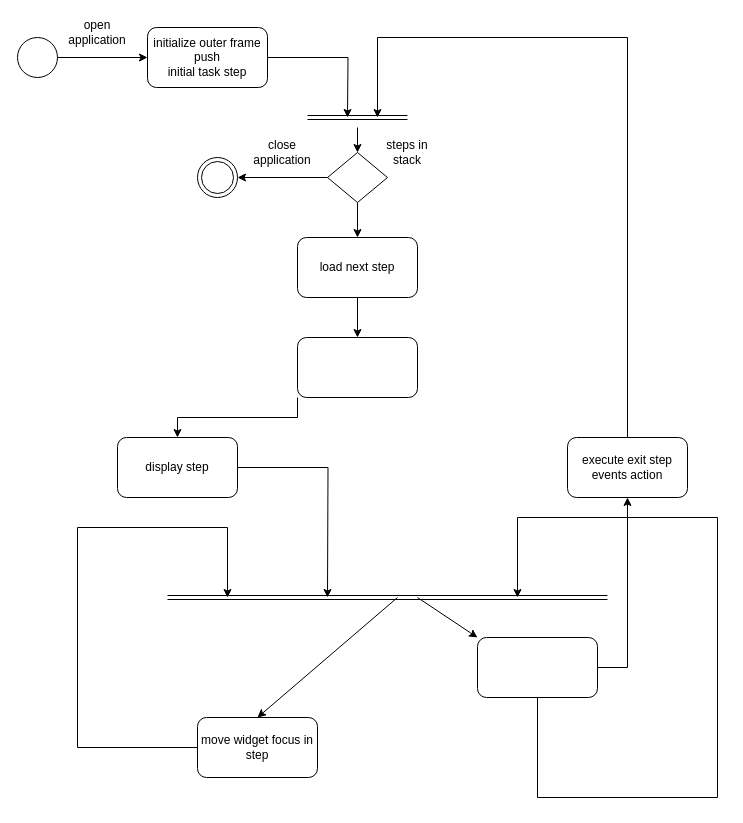
Some shapes in this 743 by 823 pixel diagram are drawn without their labels. The box of each missing label's shape, as (x1, y1, x2, y2) in pixels:
execute events actions: (476, 636, 598, 698)
execute open step events actions: (296, 336, 418, 398)
